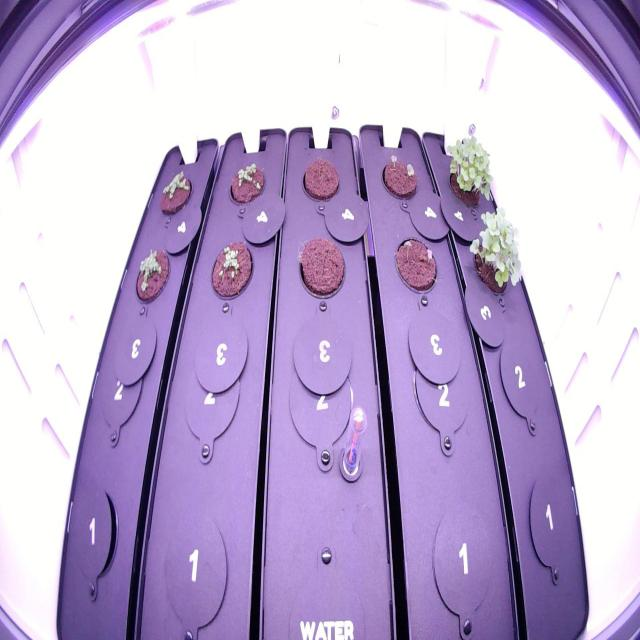empty_pod: (422, 498, 502, 626), (161, 508, 233, 629), (282, 352, 362, 457), (404, 351, 474, 451), (177, 361, 247, 450), (523, 467, 577, 579), (68, 483, 124, 588), (493, 334, 548, 436), (90, 355, 148, 445)
germination: (469, 202, 526, 301), (442, 125, 503, 216), (390, 225, 442, 305), (205, 233, 257, 306), (131, 243, 174, 310), (376, 148, 423, 208), (223, 156, 270, 212), (153, 162, 196, 220)
pod: (293, 230, 351, 307), (296, 148, 346, 210)
